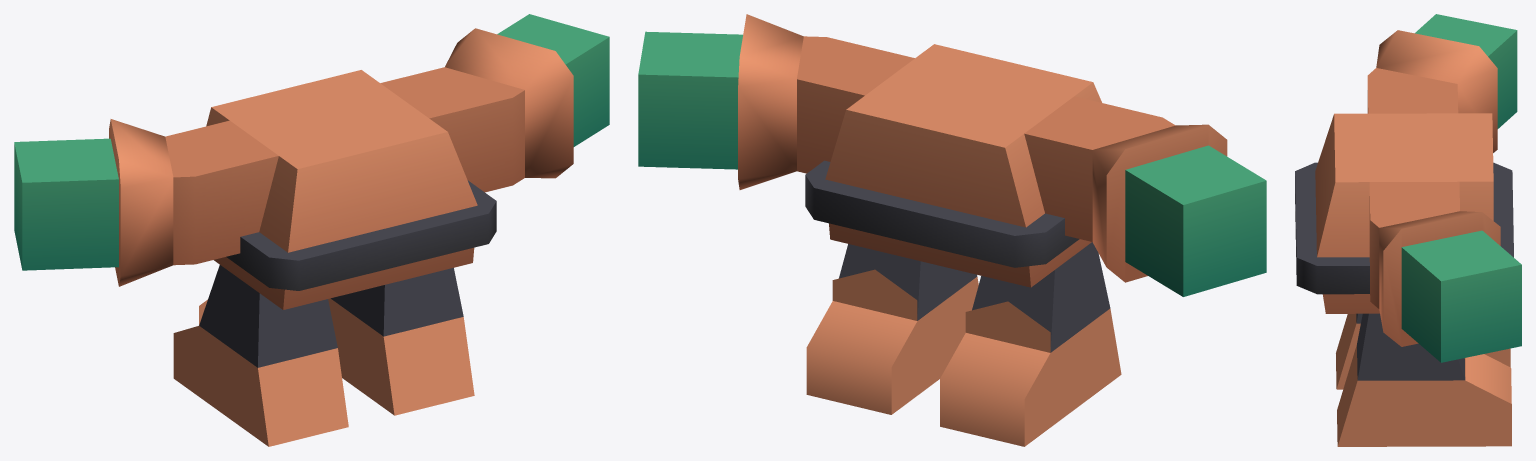
Rendered from body-mesh.005_lev5.glb.
3 views of the same model, side by side, from view 1: azimuth 30°, elevation 25°; view 2: azimuth 150°, elevation 25°; view 3: azimuth 270°, elevation 25° (orthographic). The views are drawn at different scales.
Visible parts, largest first — view 1: body-mesh.005_lev5; view 2: body-mesh.005_lev5; view 3: body-mesh.005_lev5.
Part boxes in pixels (x1,y1,x2,y2): body-mesh.005_lev5: [14, 14, 609, 446]; body-mesh.005_lev5: [638, 14, 1266, 446]; body-mesh.005_lev5: [1295, 14, 1521, 446].
Bounding box in the file's own units: 3.12 × 1.47 × 1.12.
Materials: 1 (1 with a texture image).
